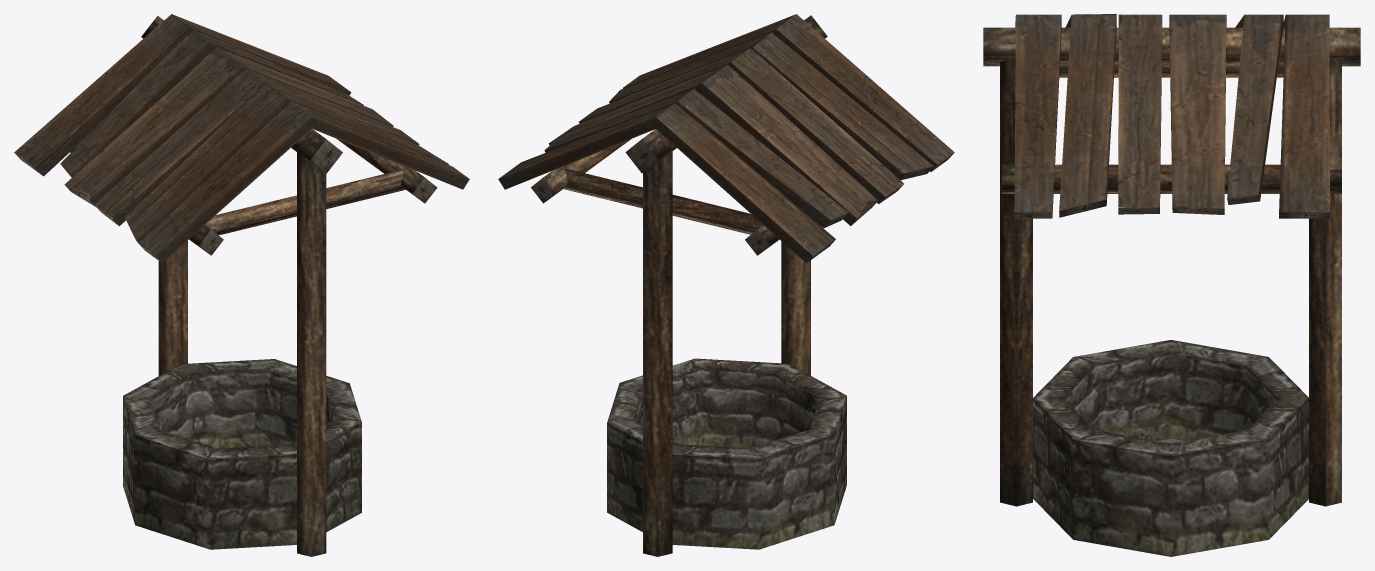
The model's file is SC_yonghengsenlin_35.FBX.
The picture shows the model from 3 angles, left to right: view 1: azimuth 30°, elevation 25°; view 2: azimuth 150°, elevation 25°; view 3: azimuth 270°, elevation 25°; orthographic projection. The views are drawn at different scales.
Parts seen in each view (by area): view 1: SC_yonghengsenlin_35; view 2: SC_yonghengsenlin_35; view 3: SC_yonghengsenlin_35.
Boxes of the visible parts, left/top/right/bottom form: SC_yonghengsenlin_35: left=14, top=14, right=469, bottom=556; SC_yonghengsenlin_35: left=498, top=14, right=954, bottom=556; SC_yonghengsenlin_35: left=983, top=14, right=1360, bottom=556.
Size of the model in its own units: 154 by 203 by 143.
